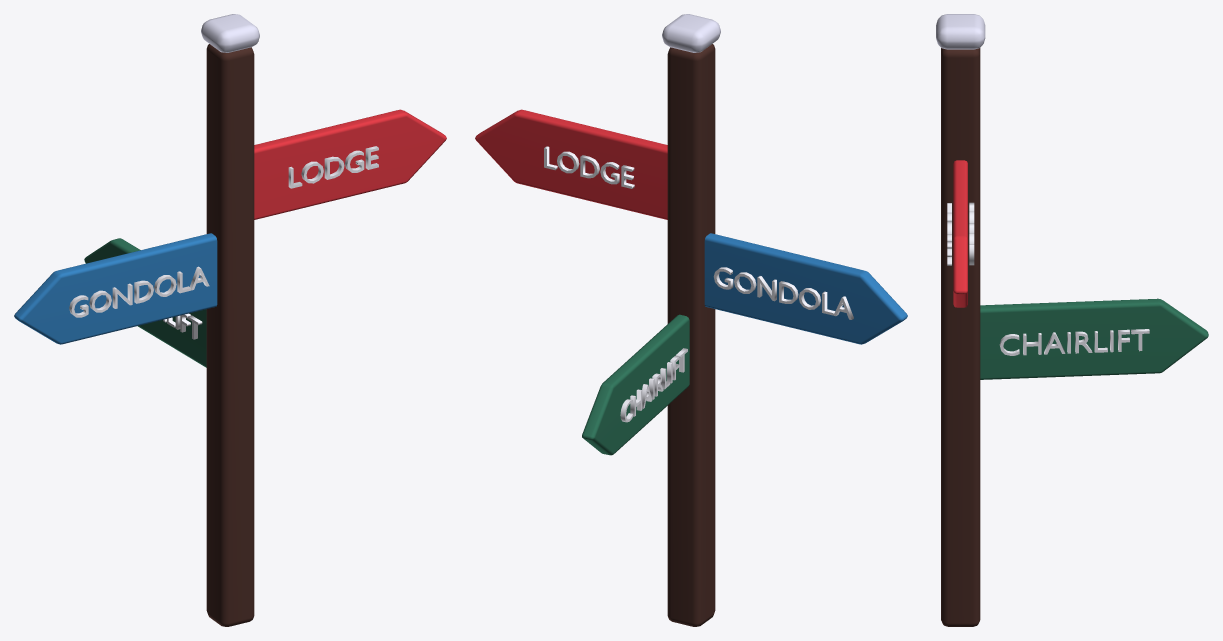
Rendered from frost_signpost.glb.
3 renders of one model, left to right at view 1: azimuth 30°, elevation 25°; view 2: azimuth 150°, elevation 25°; view 3: azimuth 270°, elevation 25°, orthographic.
Visible parts, largest first — view 1: Signpost; view 2: Signpost; view 3: Signpost.
Boxes of the visible parts, box(x1,y1,x2,y2) form: Signpost: box(14, 14, 446, 626); Signpost: box(475, 14, 907, 626); Signpost: box(936, 14, 1208, 626).
Size of the model in its own units: 2.03 by 2.7 by 1.11.
